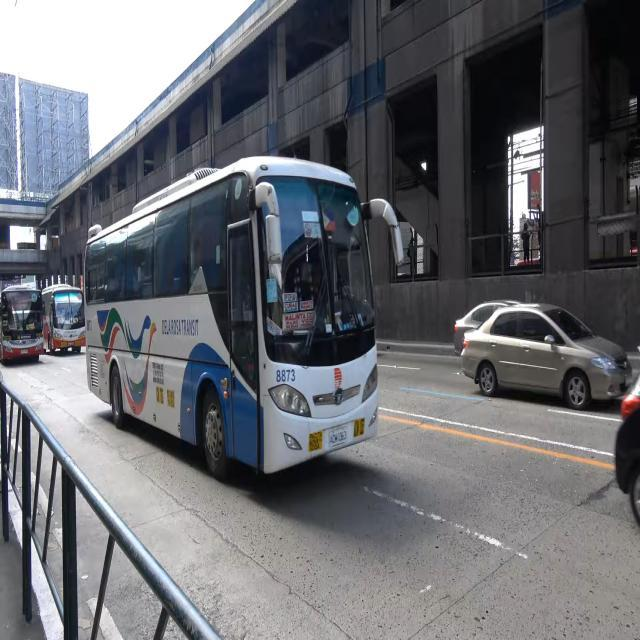bus: (82, 150, 384, 483), (0, 283, 45, 368), (42, 283, 86, 358)
car: (461, 304, 632, 416), (453, 298, 521, 356)
